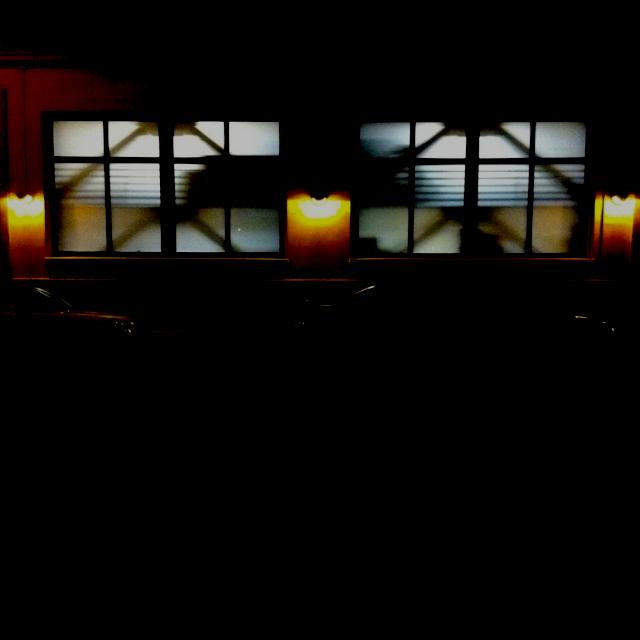Car: (287, 282, 628, 368), (2, 278, 157, 367)
